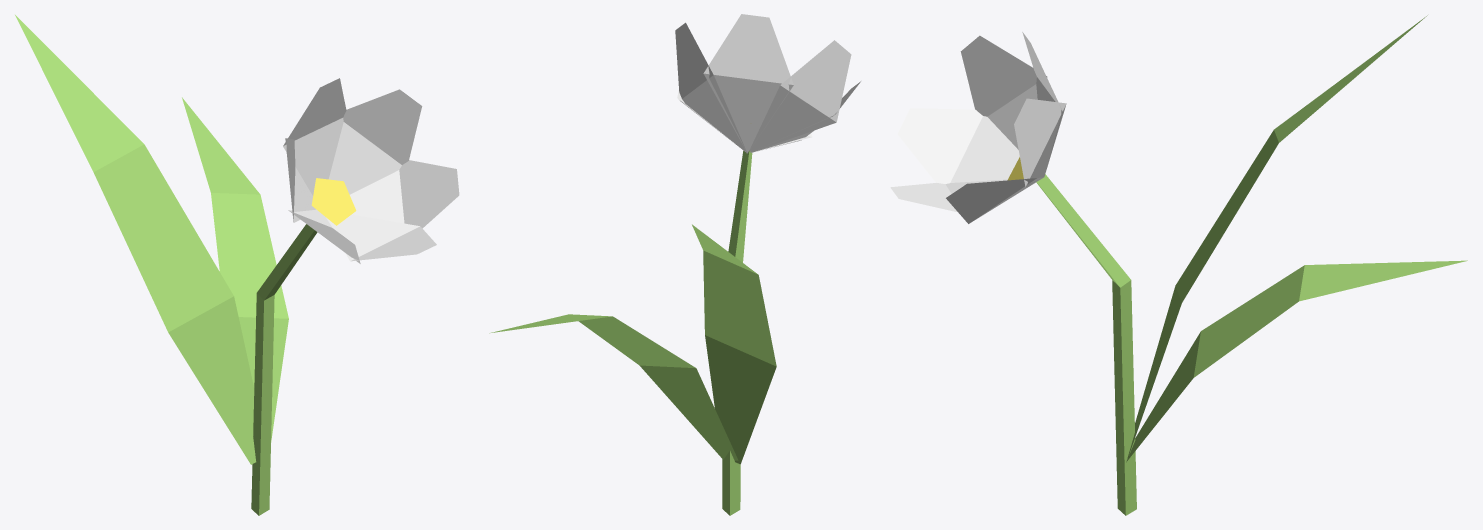
File: Flower_e_OneS_07.fbx
3 views of the same model, side by side, from view 1: azimuth 30°, elevation 25°; view 2: azimuth 150°, elevation 25°; view 3: azimuth 270°, elevation 25° (orthographic). The views are drawn at different scales.
Parts seen in each view (by area): view 1: Flower_e_OneS_07; view 2: Flower_e_OneS_07; view 3: Flower_e_OneS_07.
Boxes of the visible parts, x1,y1,x2,y2 form: Flower_e_OneS_07: (15,15,459,515); Flower_e_OneS_07: (489,14,860,515); Flower_e_OneS_07: (890,15,1467,515).
Size of the model in its own units: 0.1973 by 0.3846 by 0.4148.
